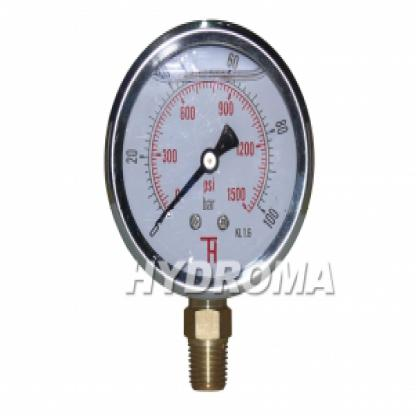needle: (154, 165, 205, 228)
